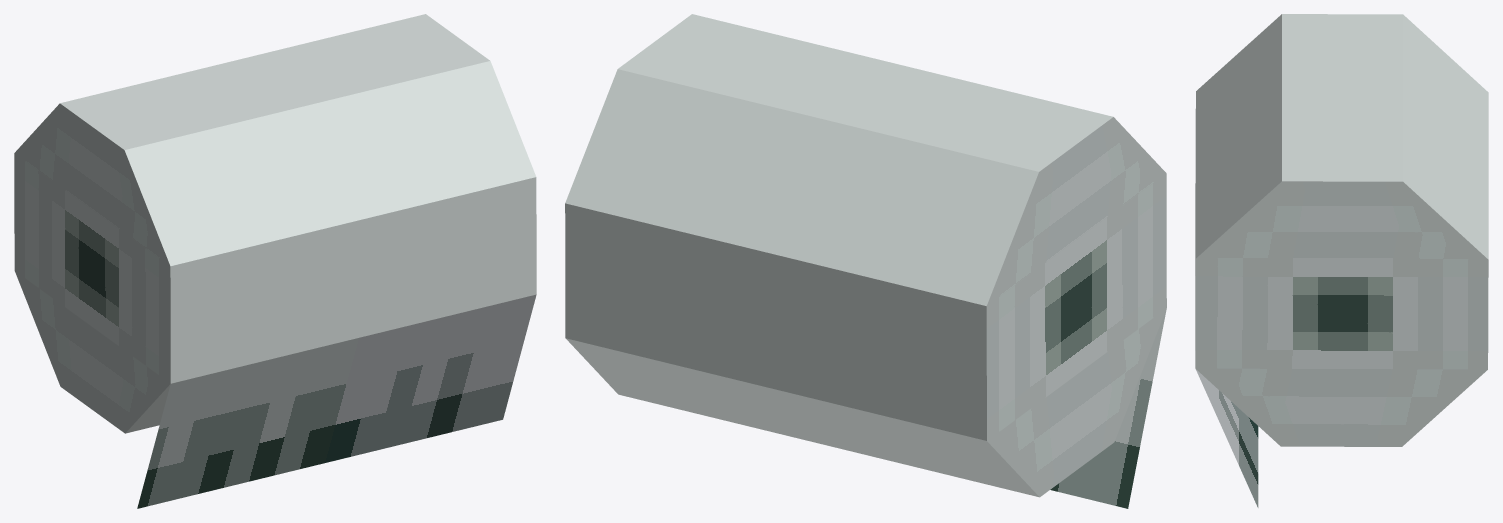
Rendered from Toilet Paper.obj.
3 renders of one model, left to right at view 1: azimuth 30°, elevation 25°; view 2: azimuth 150°, elevation 25°; view 3: azimuth 270°, elevation 25°, orthographic. The views are drawn at different scales.
Visible parts, largest first — view 1: Inst3D_RefRep.671; view 2: Inst3D_RefRep.671; view 3: Inst3D_RefRep.671.
Boxes of the visible parts, x1,y1,x2,y2 form: Inst3D_RefRep.671: (14, 14, 536, 508); Inst3D_RefRep.671: (565, 14, 1166, 508); Inst3D_RefRep.671: (1195, 14, 1488, 507).
Bounding box in the file's own units: 1.88 × 1.72 × 1.39.
